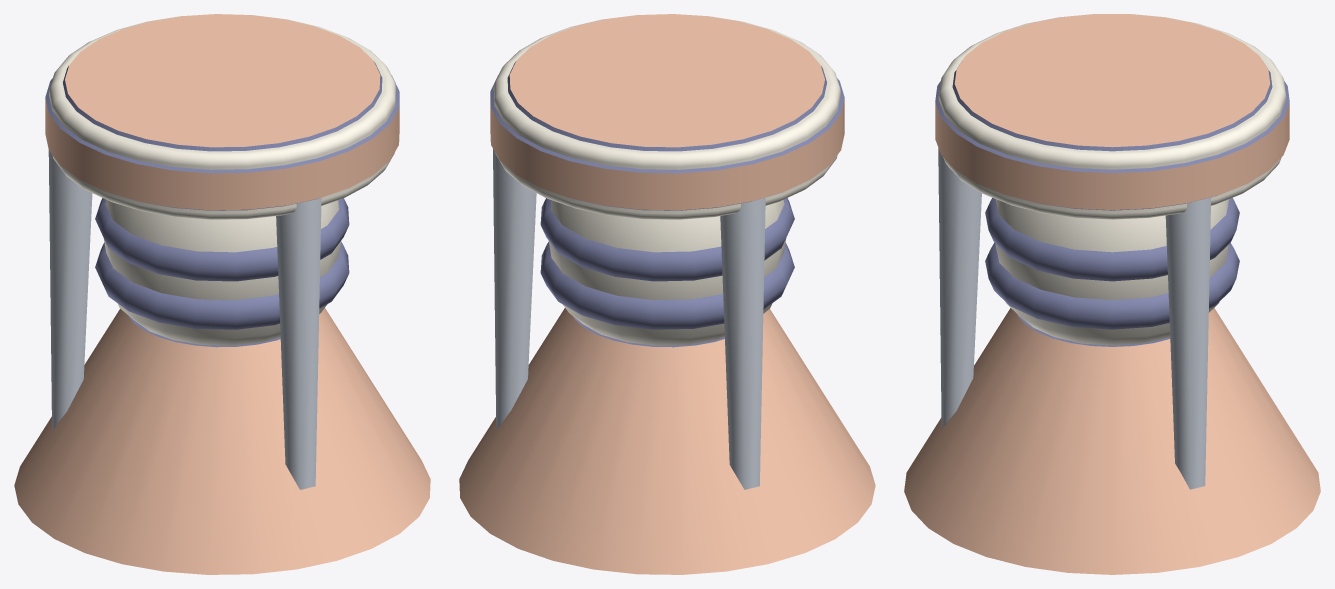
File: R4X_JumpDrive.fbx
3 views of the same model, side by side, from view 1: azimuth 30°, elevation 25°; view 2: azimuth 150°, elevation 25°; view 3: azimuth 270°, elevation 25° (orthographic).
Parts seen in each view (by area): view 1: R4X_JumpDrive_Body; view 2: R4X_JumpDrive_Body; view 3: R4X_JumpDrive_Body.
Boxes of the visible parts, left/top/right/bottom form: R4X_JumpDrive_Body: left=14, top=14, right=430, bottom=574; R4X_JumpDrive_Body: left=459, top=14, right=875, bottom=574; R4X_JumpDrive_Body: left=904, top=14, right=1320, bottom=574.
Bounding box in the file's own units: 0.4686 × 0.51 × 0.4693.
